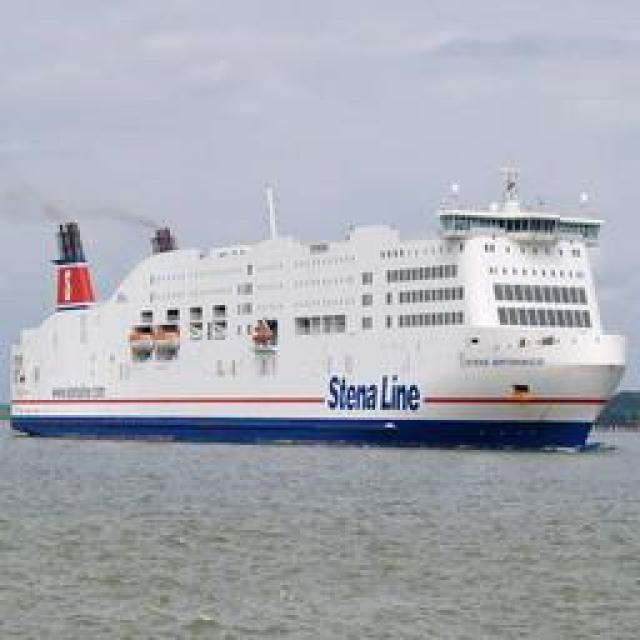ship2: (10, 167, 630, 453)
